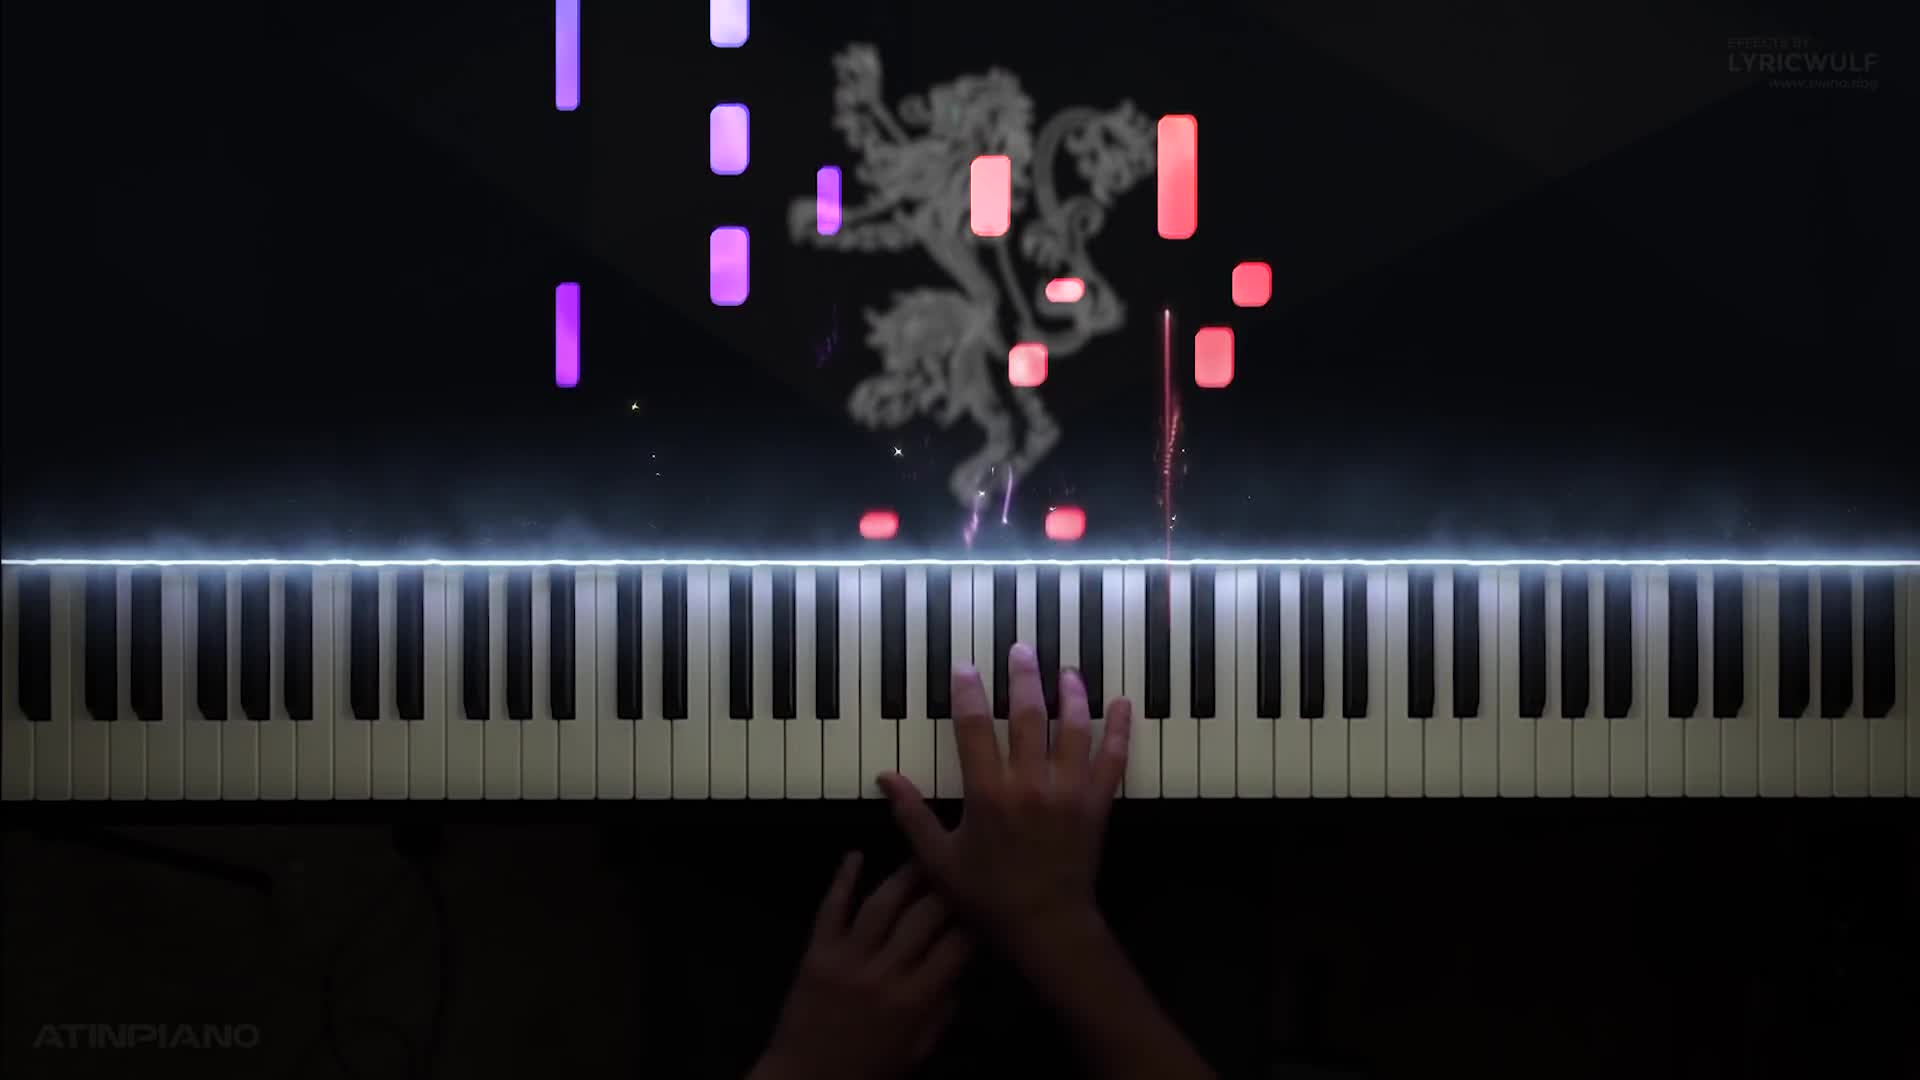left: (793, 836, 990, 1075)
right: (878, 637, 1135, 957)
